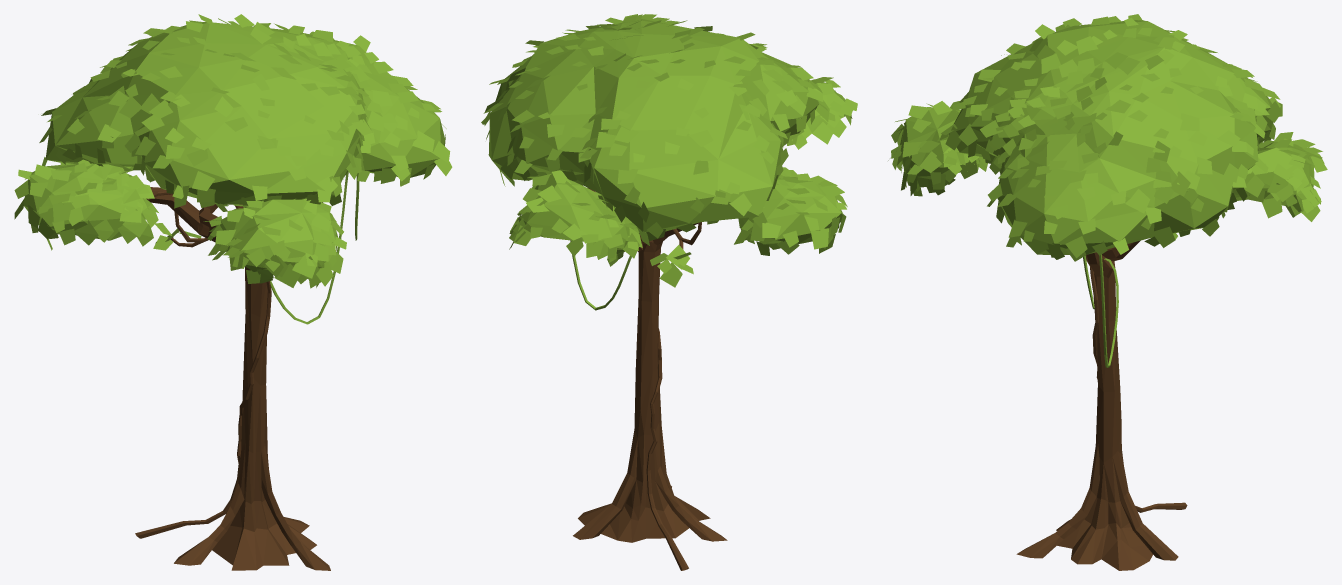
Rendered from SM_Tree_Jungle_Mature_A.fbx.
3 views of the same model, side by side, from view 1: azimuth 30°, elevation 25°; view 2: azimuth 150°, elevation 25°; view 3: azimuth 270°, elevation 25° (orthographic). The views are drawn at different scales.
Parts seen in each view (by area): view 1: tree-jungle-mature-a; view 2: tree-jungle-mature-a; view 3: tree-jungle-mature-a.
Part boxes in pixels (left/top/right/bottom): tree-jungle-mature-a: left=14, top=14, right=452, bottom=570; tree-jungle-mature-a: left=481, top=14, right=857, bottom=570; tree-jungle-mature-a: left=888, top=14, right=1327, bottom=570.
Bounding box in the file's own units: 11.38 × 14.45 × 11.63.
